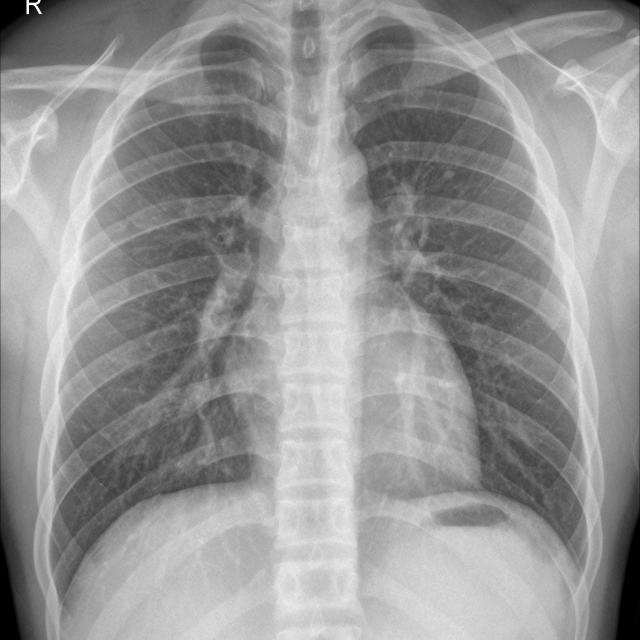no-pneumonia: (350, 44, 602, 571), (46, 34, 277, 600)
